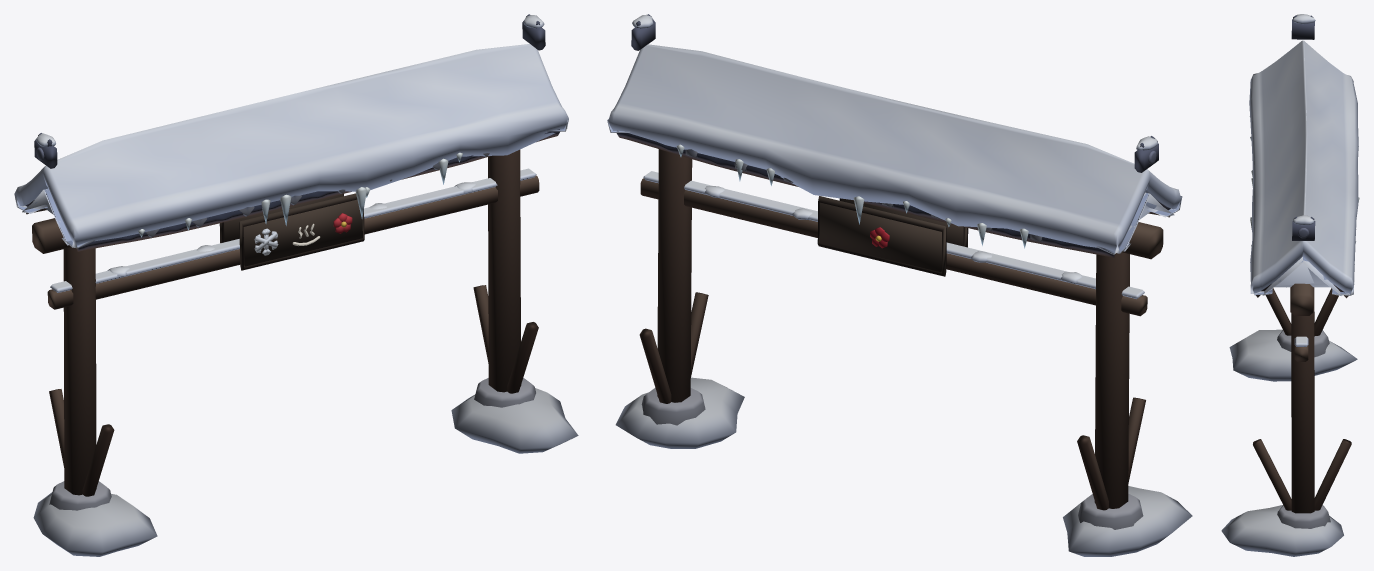
File: zv-onsen-gate.glb
The picture shows the model from 3 angles, left to right: view 1: azimuth 30°, elevation 25°; view 2: azimuth 150°, elevation 25°; view 3: azimuth 270°, elevation 25°; orthographic projection. The views are drawn at different scales.
Parts seen in each view (by area): view 1: zv-onsen-gate; view 2: zv-onsen-gate; view 3: zv-onsen-gate.
Boxes of the visible parts, x1=… form: zv-onsen-gate: x1=14, y1=14, x2=578, y2=556; zv-onsen-gate: x1=607, y1=14, x2=1192, y2=556; zv-onsen-gate: x1=1221, y1=14, x2=1359, y2=556.
Size of the model in its own units: 4.45 by 3.3 by 1.21.
